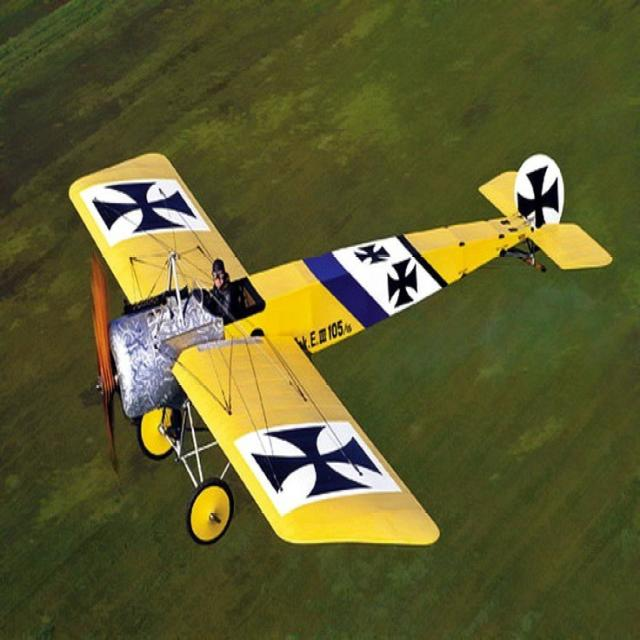iha: (66, 150, 612, 550)
